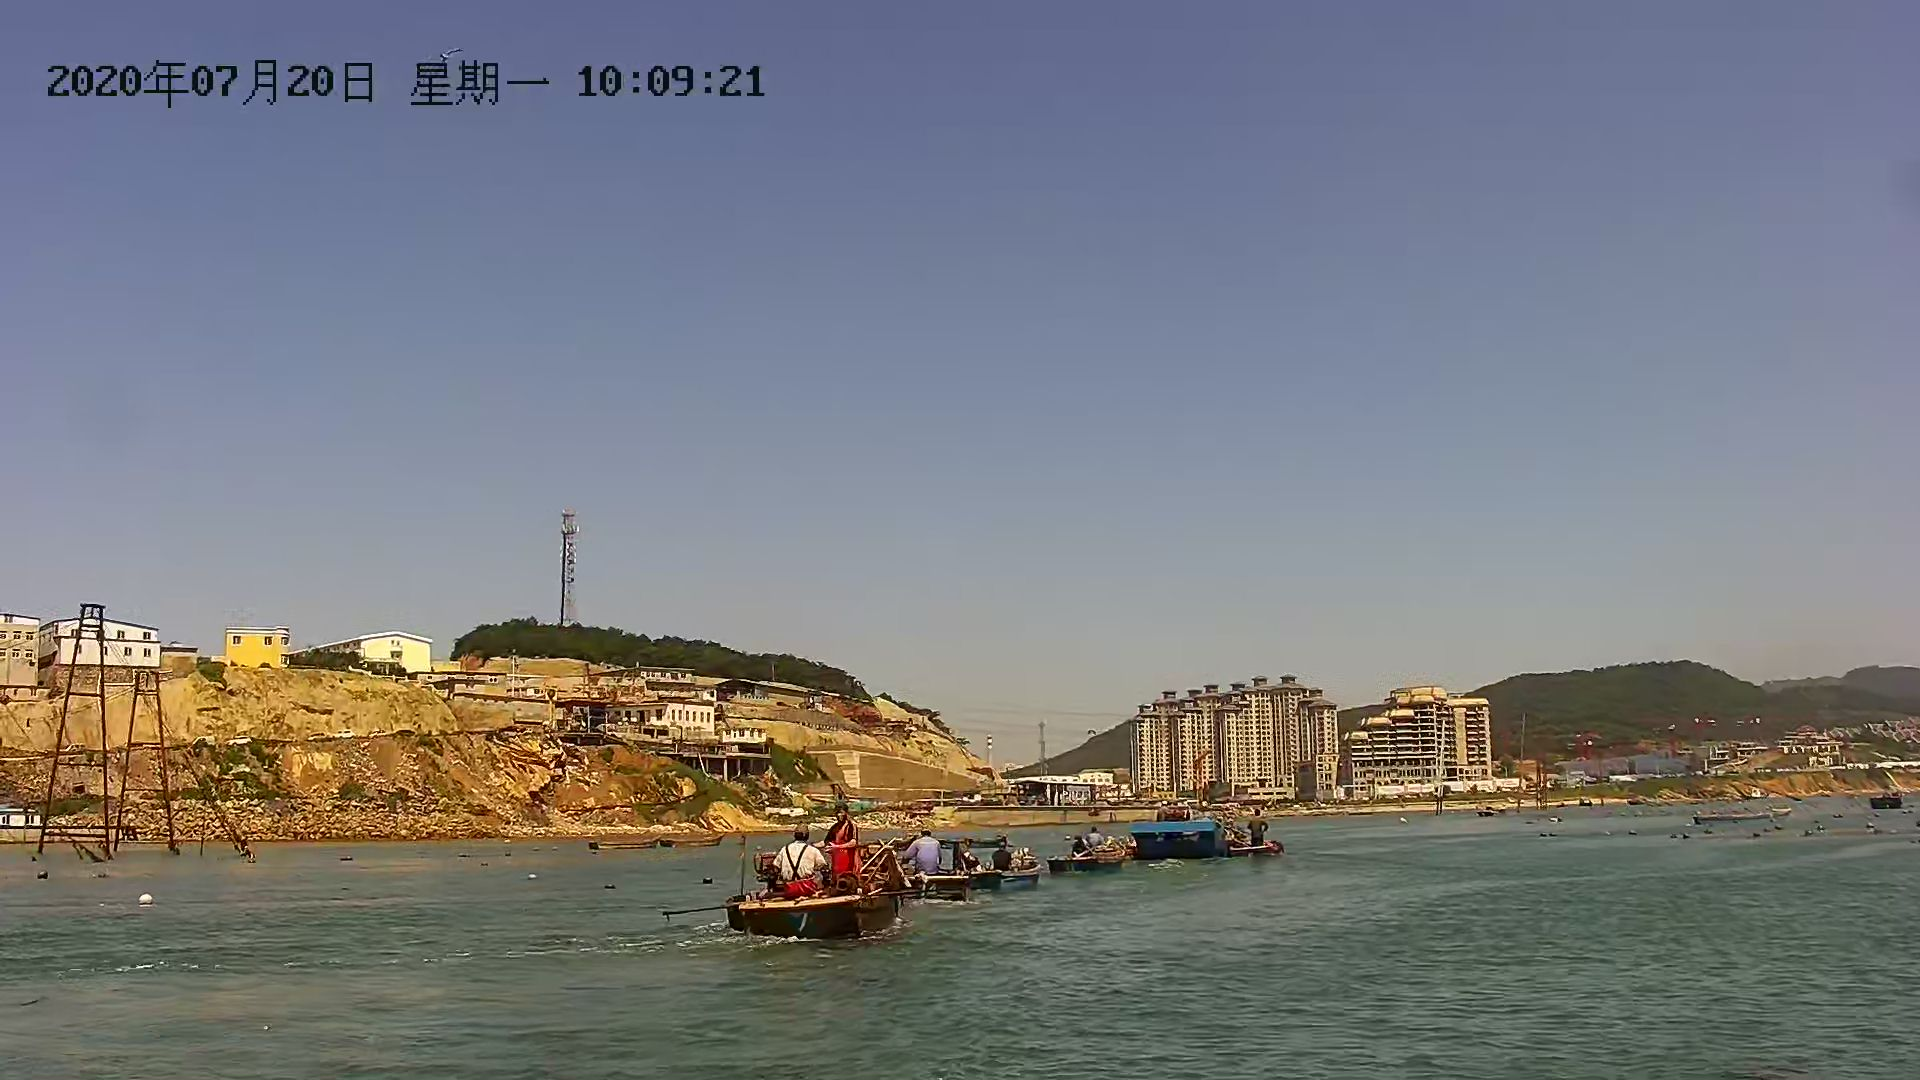boat: (735, 877, 911, 939), (1688, 808, 1809, 838), (1064, 839, 1131, 877), (968, 865, 1051, 893), (970, 871, 1053, 899), (585, 834, 668, 858), (916, 871, 968, 908), (1227, 839, 1296, 858), (670, 828, 729, 849), (1872, 797, 1903, 810)
mast: (48, 599, 114, 871), (120, 662, 179, 858)
person: (770, 821, 825, 899), (827, 802, 863, 880), (898, 827, 950, 880), (1246, 797, 1274, 851), (992, 827, 1018, 877), (1079, 827, 1107, 856)
platform: (1133, 821, 1227, 858)
